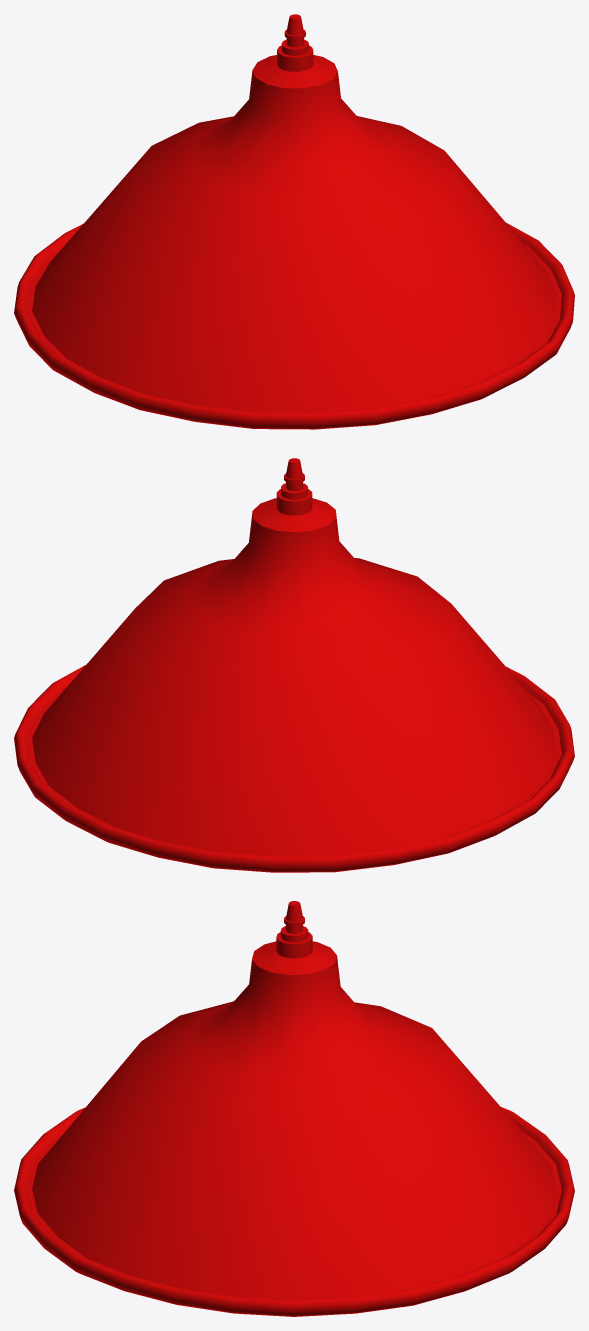
The model's file is Attic_Light_02_LP.glb.
3 views of the same model, one above another, from view 1: azimuth 30°, elevation 25°; view 2: azimuth 150°, elevation 25°; view 3: azimuth 270°, elevation 25° (orthographic).
Visible parts, largest first — view 1: Attic_Light_02_LP; view 2: Attic_Light_02_LP; view 3: Attic_Light_02_LP.
Part boxes in pixels (<box>): Attic_Light_02_LP: <box>14,14,574,429</box>; Attic_Light_02_LP: <box>14,458,574,872</box>; Attic_Light_02_LP: <box>14,901,574,1316</box>.
Bounding box in the file's own units: 0.6845 × 0.3988 × 0.681.
